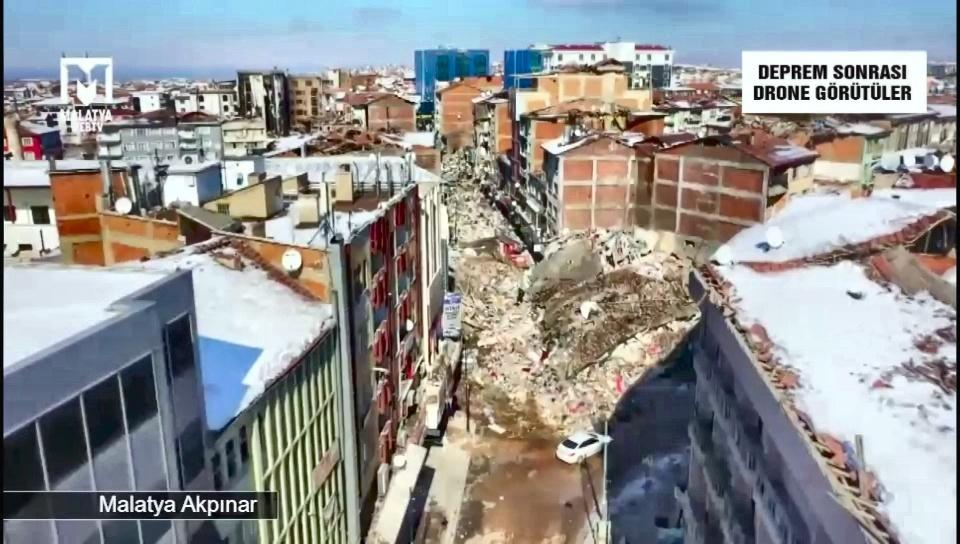kapali: (450, 245, 599, 488), (442, 163, 521, 243)
